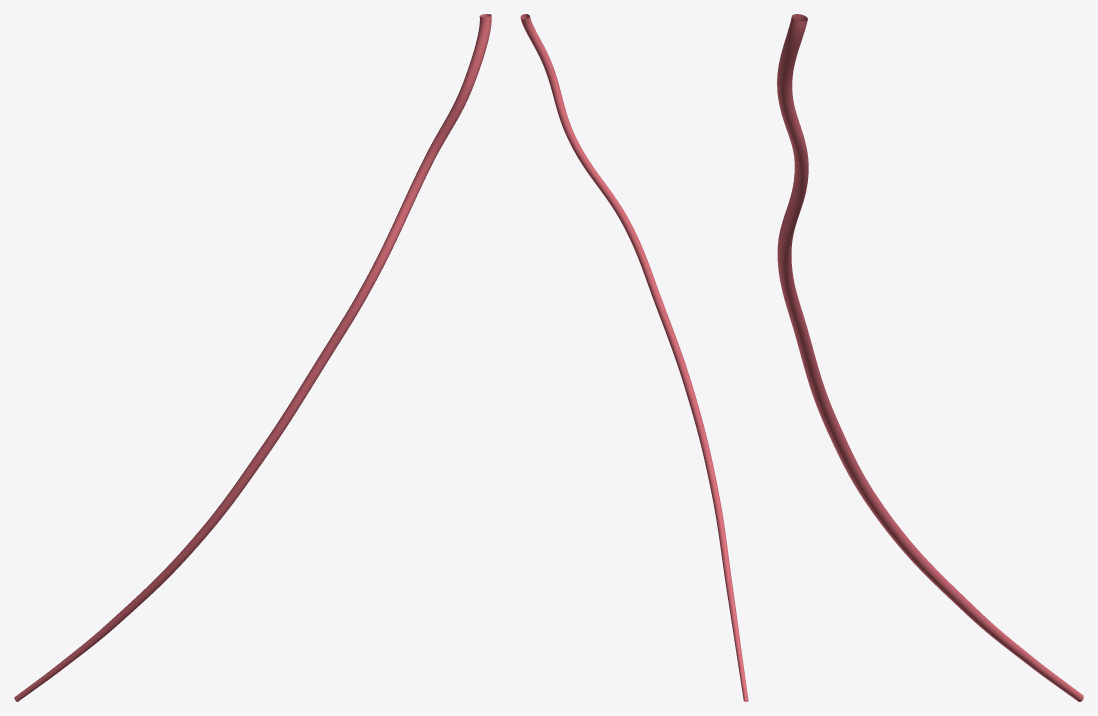
3 renders of one model, left to right at view 1: azimuth 30°, elevation 25°; view 2: azimuth 150°, elevation 25°; view 3: azimuth 270°, elevation 25°, orthographic. The views are drawn at different scales.
Parts seen in each view (by area): view 1: ZA_adf0046105a8b02a; view 2: ZA_adf0046105a8b02a; view 3: ZA_adf0046105a8b02a.
Boxes of the visible parts, left/top/right/bottom form: ZA_adf0046105a8b02a: left=14, top=14, right=491, bottom=701; ZA_adf0046105a8b02a: left=520, top=14, right=748, bottom=701; ZA_adf0046105a8b02a: left=777, top=14, right=1083, bottom=701.
Size of the model in its own units: 0.0952 by 0.1621 by 0.0482.
